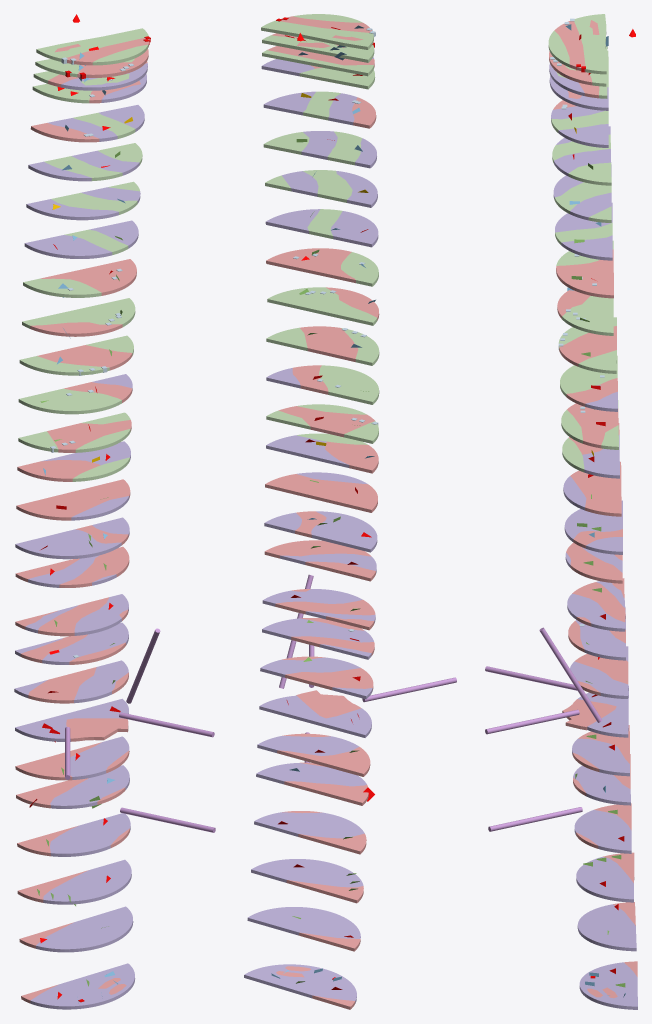
The model's file is tomkit-gltf-export.glb.
3 renders of one model, left to right at view 1: azimuth 30°, elevation 25°; view 2: azimuth 150°, elevation 25°; view 3: azimuth 270°, elevation 25°, orthographic.
Size of the model in its own units: 16.37 by 100 by 14.4.
